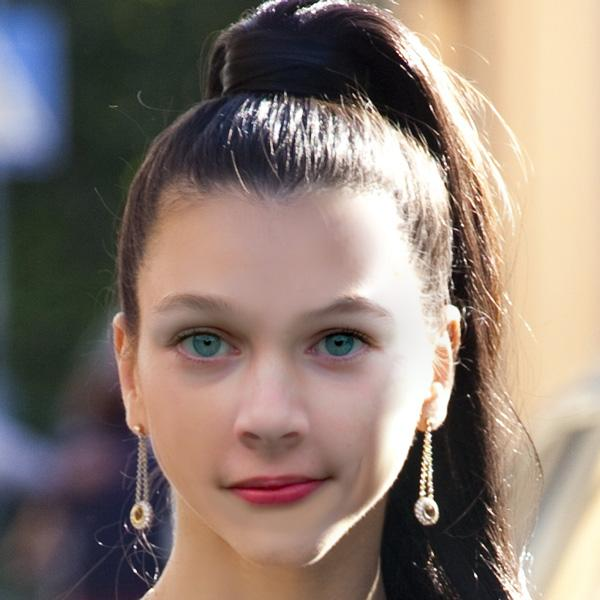Eyes: (158, 318, 249, 375), (292, 320, 385, 374)
